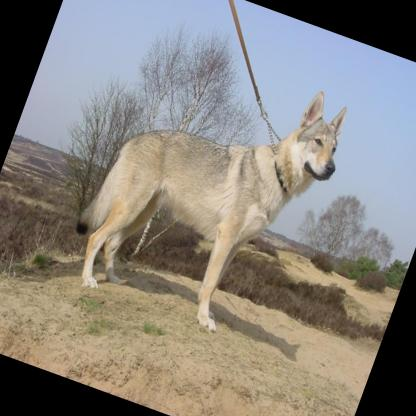Eskimo_dog: (57, 26, 358, 352)
